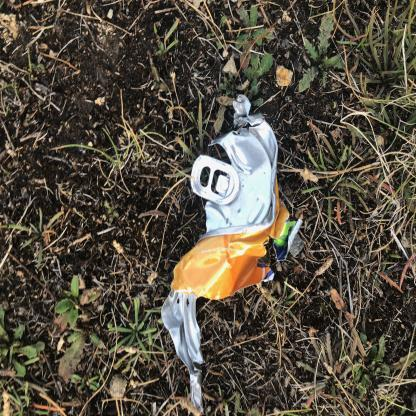trash: (0, 205, 252, 411)
